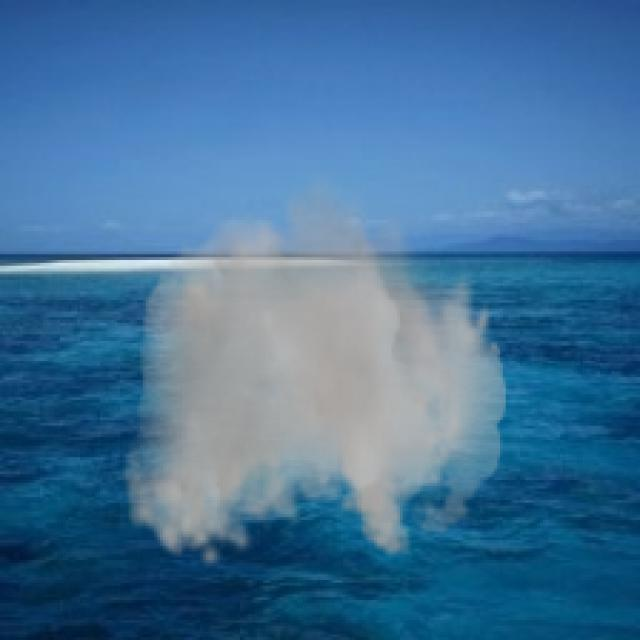Smoke: (123, 162, 506, 568)
